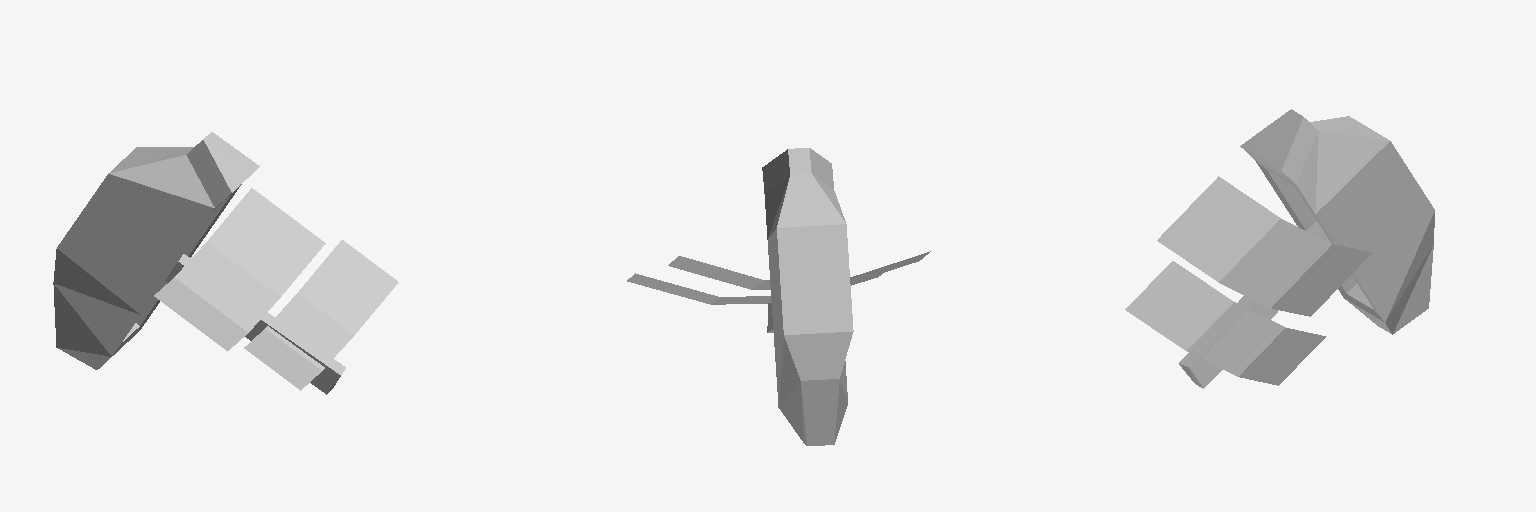
Rendered from boatMiddleAge.obj.
The picture shows the model from 3 angles: view 1: azimuth 30°, elevation 25°; view 2: azimuth 150°, elevation 25°; view 3: azimuth 270°, elevation 25°; orthographic projection.
Parts seen in each view (by area): view 1: Plane002; view 2: Plane002; view 3: Plane002.
Part boxes in pixels (x1,y1,x2,y2): Plane002: (53,132,398,394); Plane002: (627,148,930,445); Plane002: (1125,109,1434,388).
Bounding box in the file's own units: 52.78 × 43.9 × 49.77.